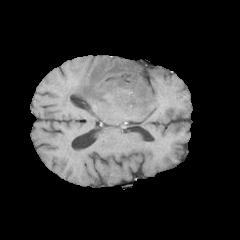glioma: (53, 58, 158, 117)
